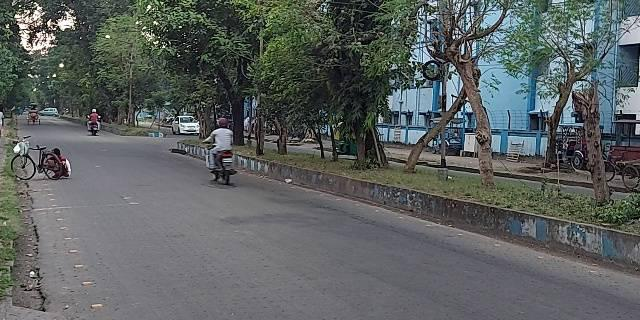Car: (172, 114, 200, 137)
Cycle: (7, 144, 65, 183)
Motorbike: (202, 119, 238, 183), (84, 109, 103, 138)
